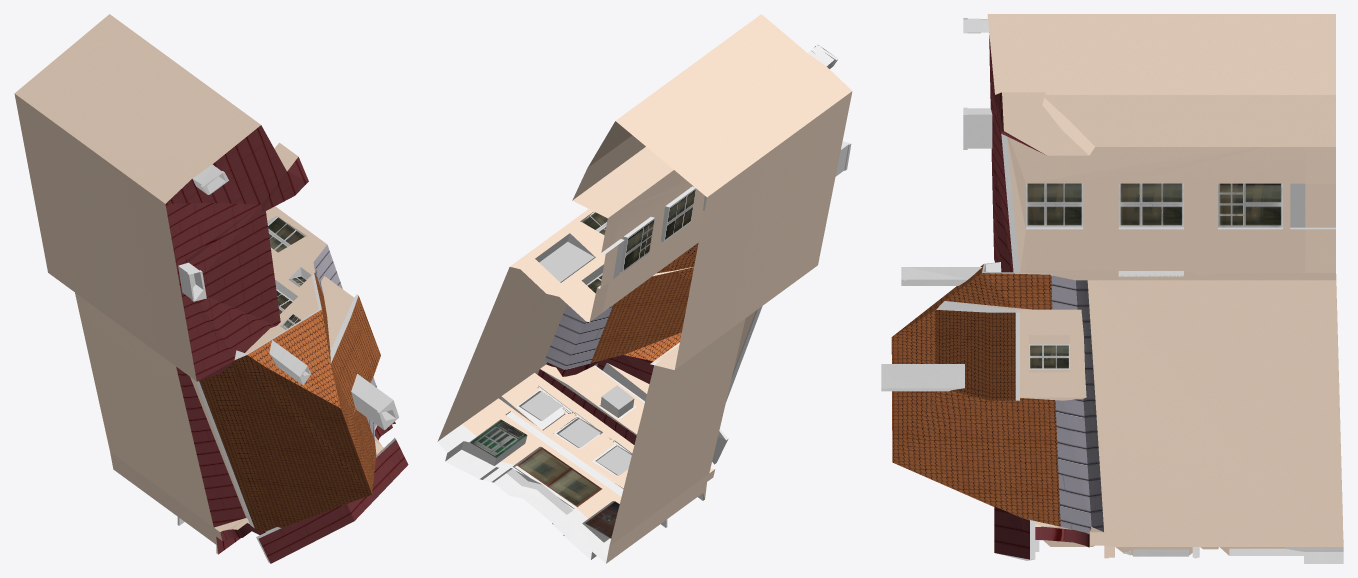
File: Pikk_3-origo.obj
The picture shows the model from 3 angles, left to right: view 1: azimuth 30°, elevation 25°; view 2: azimuth 150°, elevation 25°; view 3: azimuth 270°, elevation 25°; orthographic projection. The views are drawn at different scales.
Parts seen in each view (by area): view 1: Pikk_3; view 2: Pikk_3; view 3: Pikk_3.
Boxes of the visible parts, <box> form: Pikk_3: <box>14,14,408,563</box>; Pikk_3: <box>437,14,852,563</box>; Pikk_3: <box>881,14,1343,563</box>.
Size of the model in its own units: 15.5 by 25 by 19.44.
